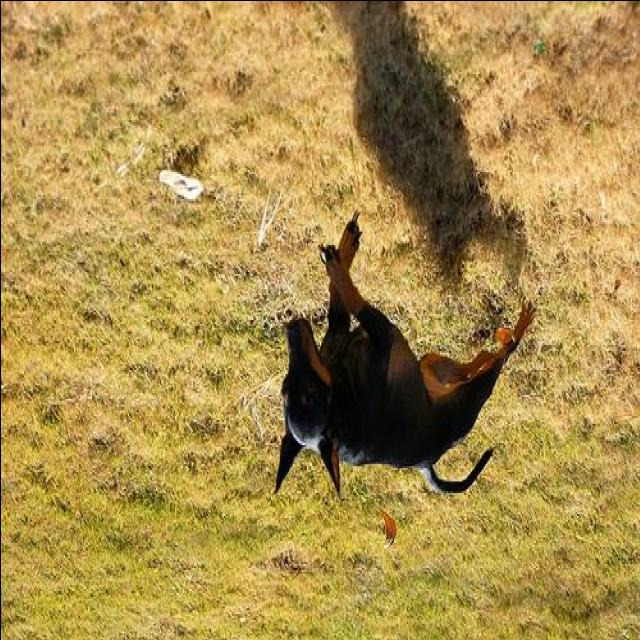toy_terrier: (268, 205, 536, 506)
